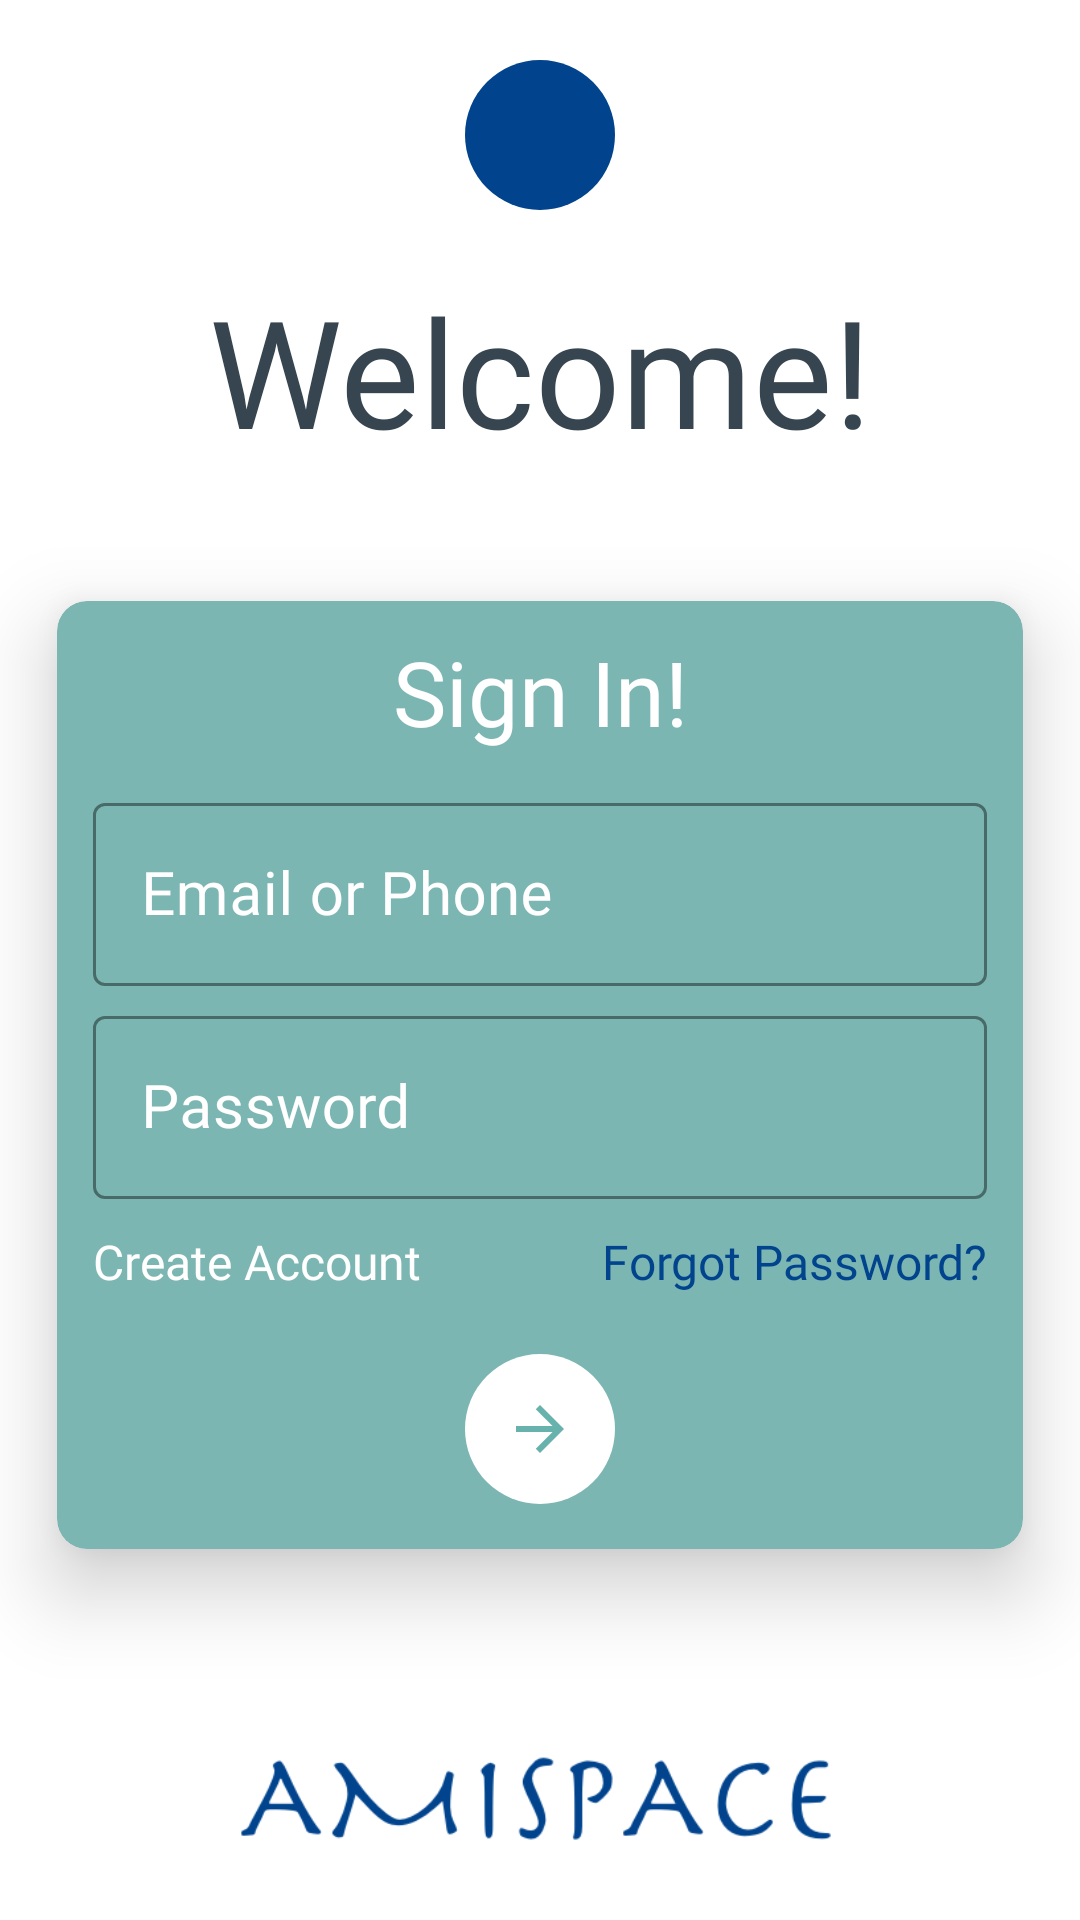

Icons on this 1080 x 1920 Android screen, each with its box as (x1, y1, x2, y2):
forward arrow: (465, 1354, 615, 1504)
